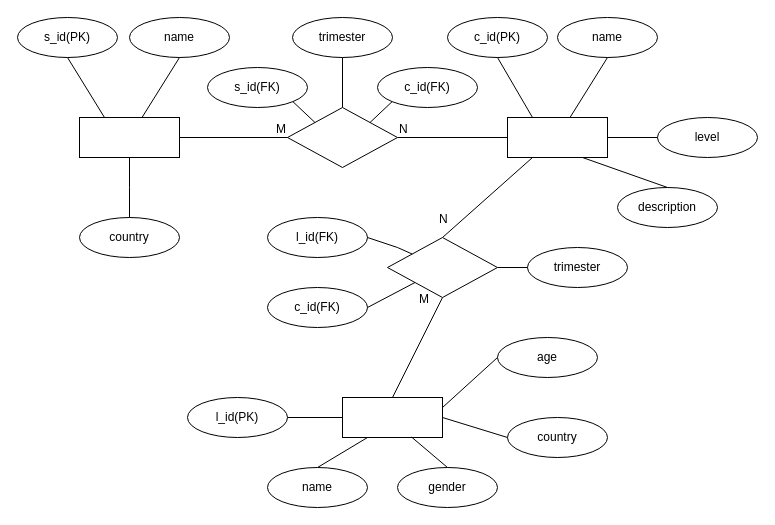
This 775x525 diagram has some shape labels left out. Here are the shapes that lost their labels. From the top down, the box of each, then its label:
(78, 116, 180, 158): Students
(286, 106, 398, 168): Enrollment
(506, 116, 608, 158): Courses
(386, 236, 498, 298): Guide
(342, 396, 442, 438): Lecture
